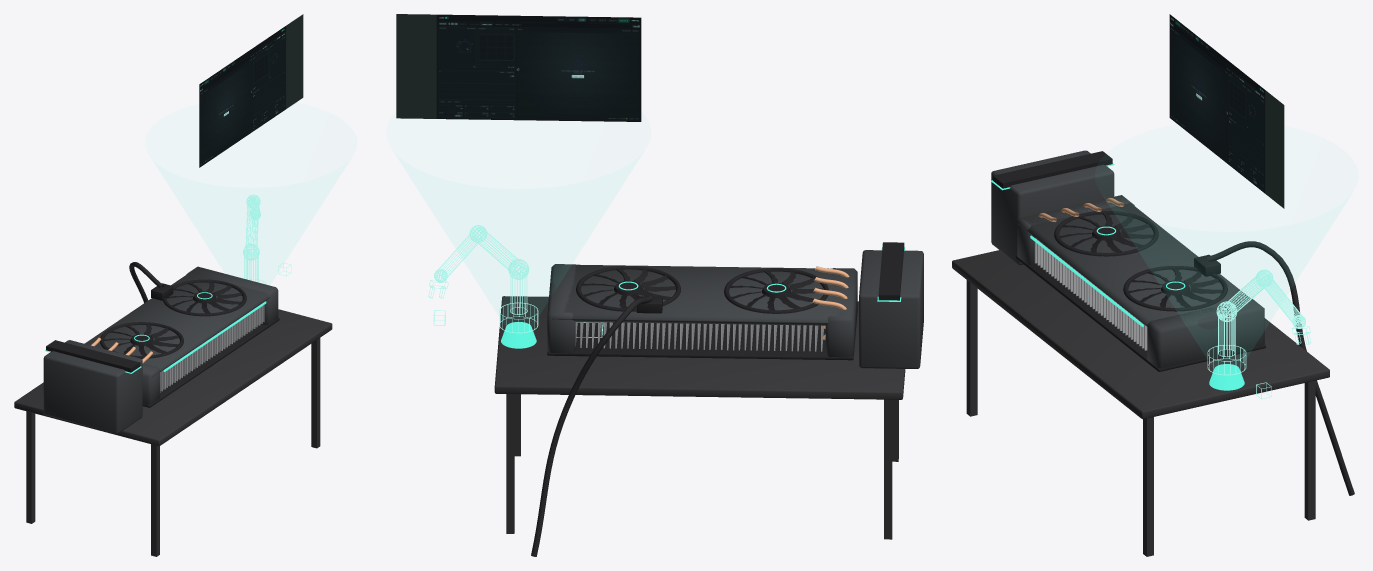
Rendered from machine.glb.
The picture shows the model from 3 angles, left to right: view 1: azimuth 30°, elevation 25°; view 2: azimuth 150°, elevation 25°; view 3: azimuth 270°, elevation 25°; orthographic projection. The views are drawn at different scales.
Parts seen in each view (by area): view 1: mx_M_DeskTop, mx_M_HoloScreen, mx_M_Port, mx_M_ShroudTop, mx_M_DeskLeg.001, mx_M_ShroudCap.001, mx_M_Slot, mx_M_Backplate, mx_M_DeskLeg.002, mx_M_DeskLeg, mx_M_ShroudCap, mx_M_FanRing.001 (+2 smaller); view 2: mx_M_HoloScreen, mx_M_DeskTop, mx_M_ShroudTop, mx_M_Backplate, mx_M_Port, mx_M_ShroudCap.001, mx_M_Cable, mx_M_ShroudCap, mx_M_Slot, mx_M_DeskLeg.001, mx_M_DeskLeg.003, mx_M_FanRing (+2 smaller); view 3: mx_M_DeskTop, mx_M_HoloScreen, mx_M_ShroudTop, mx_M_Port, mx_M_ShroudCap.001, mx_M_Backplate, mx_M_Cable, mx_M_Slot, mx_M_DeskLeg.003, mx_M_DeskLeg, mx_M_DeskLeg.002, mx_M_ShroudCap (+6 smaller).
Part boxes in pixels (x1,y1,x2,y2): mx_M_DeskTop: (14,309,332,446); mx_M_HoloScreen: (199,14,303,167); mx_M_Port: (43,340,142,433); mx_M_ShroudTop: (84,267,269,376); mx_M_DeskLeg.001: (26,411,35,523); mx_M_ShroudCap.001: (186,266,278,324); mx_M_Slot: (46,340,140,372); mx_M_Backplate: (142,317,279,407); mx_M_DeskLeg.002: (311,338,320,448); mx_M_DeskLeg: (151,444,159,556); mx_M_ShroudCap: (142,363,160,404); mx_M_FanRing.001: (163,279,246,316); mx_M_HoloScreen: (396,14,641,121); mx_M_DeskTop: (494,296,905,399); mx_M_ShroudTop: (552,264,852,325); mx_M_Backplate: (547,310,857,360); mx_M_Port: (859,250,923,368); mx_M_ShroudCap.001: (547,264,577,353); mx_M_Cable: (531,296,652,556); mx_M_ShroudCap: (825,268,857,357); mx_M_Slot: (878,242,904,300); mx_M_DeskLeg.001: (884,399,892,539); mx_M_DeskLeg.003: (506,394,514,533); mx_M_FanRing: (724,268,828,313); mx_M_DeskTop: (952,250,1329,419); mx_M_HoloScreen: (1169,14,1284,208); mx_M_ShroudTop: (1017,196,1259,326); mx_M_Port: (991,150,1114,265); mx_M_ShroudCap.001: (1147,299,1264,368); mx_M_Backplate: (1016,256,1265,371); mx_M_Cable: (1207,241,1354,495); mx_M_Slot: (993,151,1112,188); mx_M_DeskLeg.003: (1304,380,1315,520); mx_M_DeskLeg: (966,280,977,416); mx_M_DeskLeg.002: (1143,417,1153,556); mx_M_ShroudCap: (1017,195,1134,265).
Size of the model in its own units: 10.28 by 10.32 by 8.01.
Materials: 11 (1 with a texture image).
